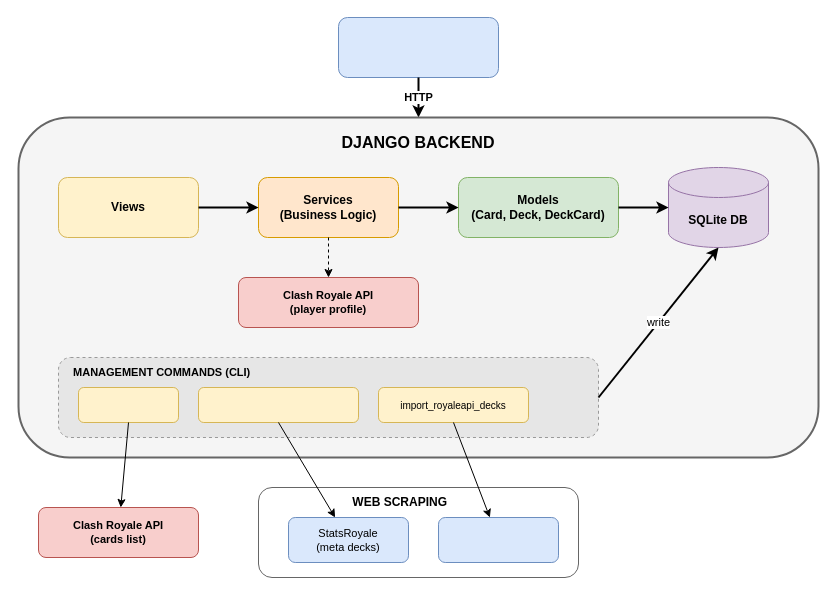
The diagram is 836 pixels wide and 595 high, and some of its shapes have lost their labels. Each missing label, with the centre of its shape:
import_cards: point (128, 404)
import_statsroyale_decks: point (278, 404)
RoyaleAPI (meta decks): point (498, 539)
🌐 BROWSER (User Interface): point (418, 47)
